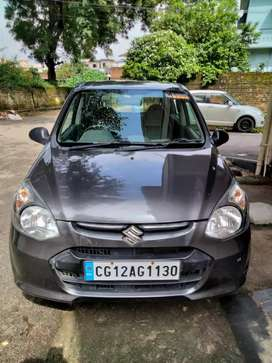CG12AG1130: (84, 260, 180, 281)
